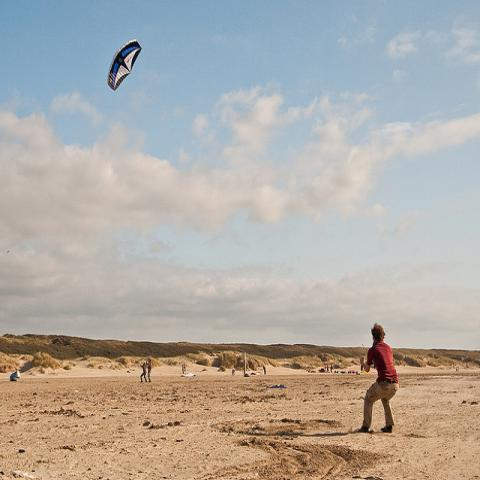car: (319, 369, 325, 372)
